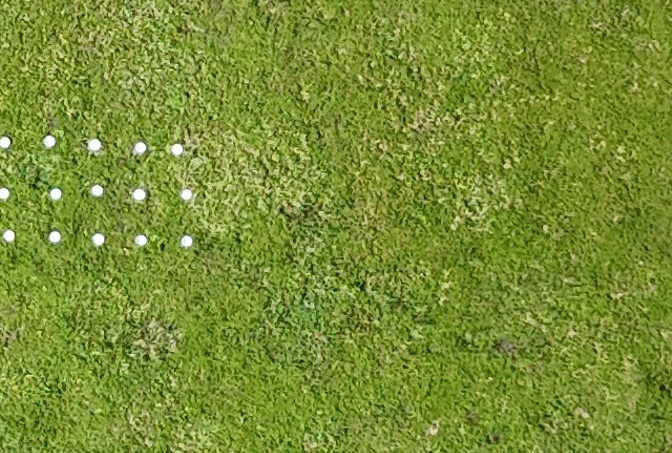bowl: (88, 138, 102, 151), (3, 229, 16, 242), (91, 184, 104, 197), (171, 143, 184, 156), (49, 230, 61, 243), (50, 187, 62, 200), (44, 135, 56, 148), (93, 233, 105, 246), (134, 234, 147, 246), (180, 189, 192, 201), (0, 136, 11, 148), (134, 188, 145, 200), (135, 142, 147, 153), (182, 235, 193, 247), (0, 188, 10, 200)
